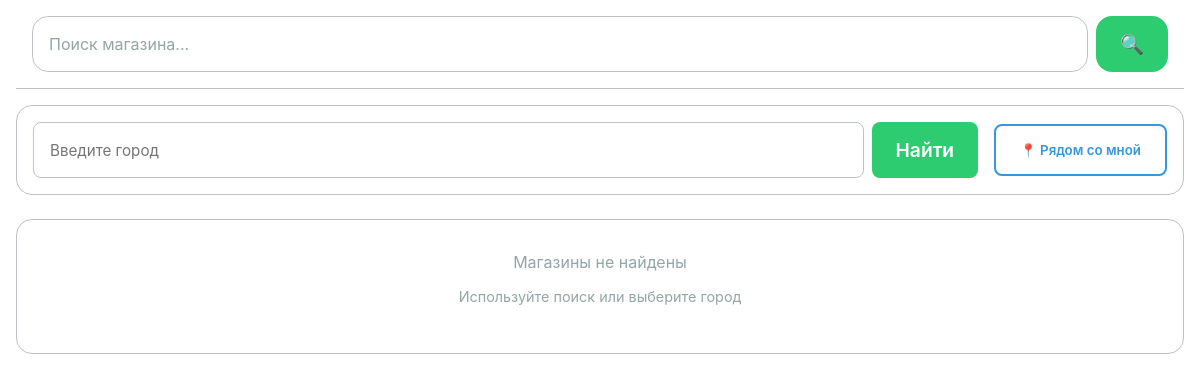
Test case: ShopsPage › searches by city on Enter key press
In the field with placeholder "Введите город": (448, 150) [33,122,864,178], type "Portland"
Then press Enter
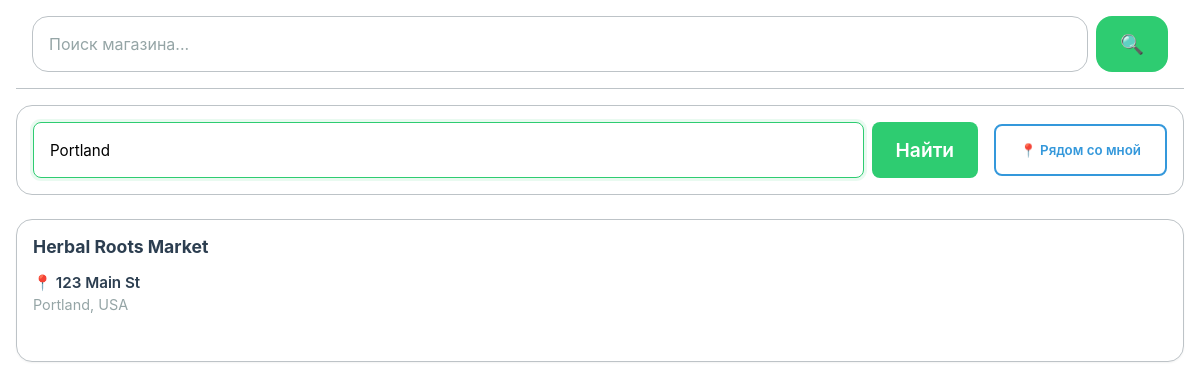
Check: the heading "Herbal Roots Market" is shown, box [33,236,208,257]
